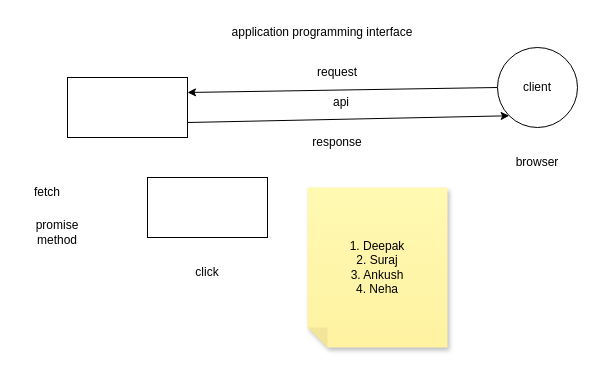
This 595x371 diagram has some shape labels left out. The centre of each missing label's shape, as x and y in pixels:
"button" belongs at (207,207).
"Server" belongs at (127,107).
